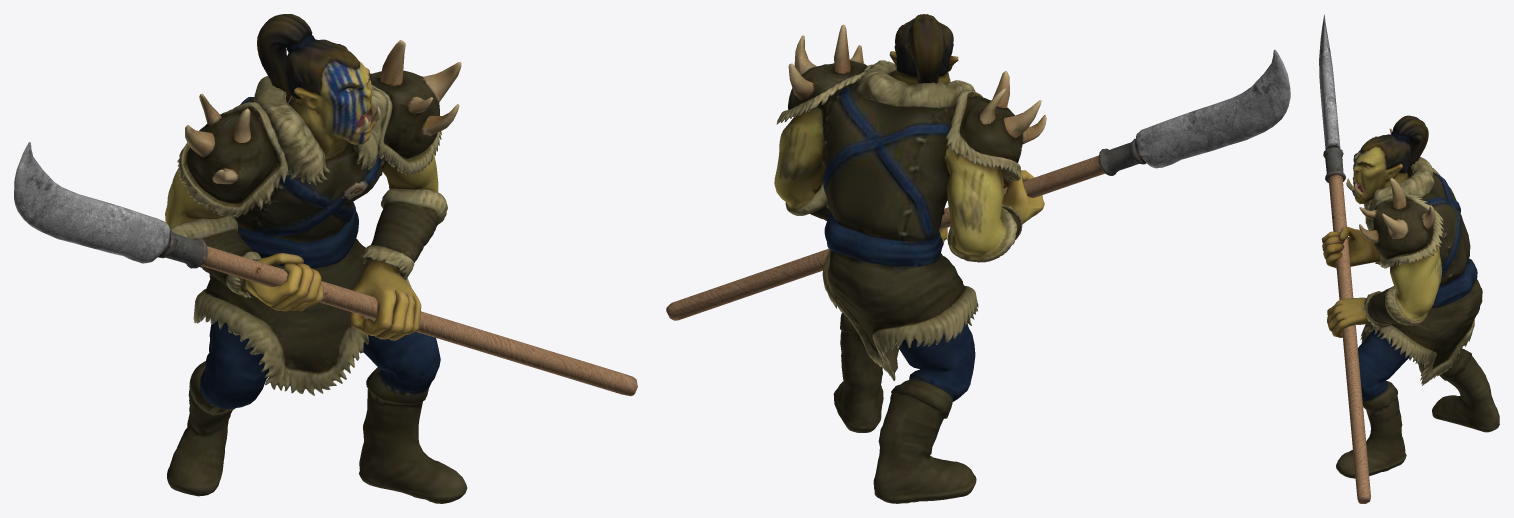
The model's file is MZ4250 - Orc Male Warrior_blue_glaive.glb.
3 views of the same model, side by side, from view 1: azimuth 30°, elevation 25°; view 2: azimuth 150°, elevation 25°; view 3: azimuth 270°, elevation 25° (orthographic). The views are drawn at different scales.
Parts seen in each view (by area): view 1: Glaive.003; view 2: Glaive.003; view 3: Glaive.003.
Part boxes in pixels (bbox=[...]): Glaive.003: bbox=[14, 14, 637, 503]; Glaive.003: bbox=[666, 14, 1290, 503]; Glaive.003: bbox=[1319, 14, 1499, 503].
Size of the model in its own units: 55.66 by 39.09 by 20.03.
Materials: 2 (2 with a texture image).
